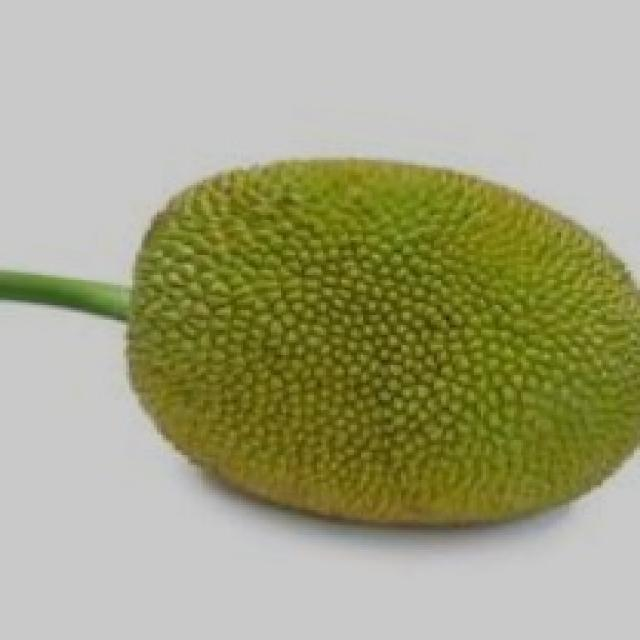Fruit: (258, 138, 640, 542)
